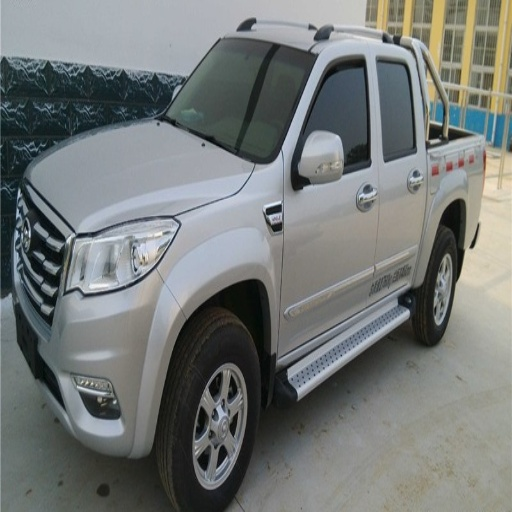front_bumper: (16, 209, 180, 456)
front_glass: (159, 40, 317, 161)
front_left_door: (281, 52, 379, 357)
trunk: (426, 137, 490, 247)
